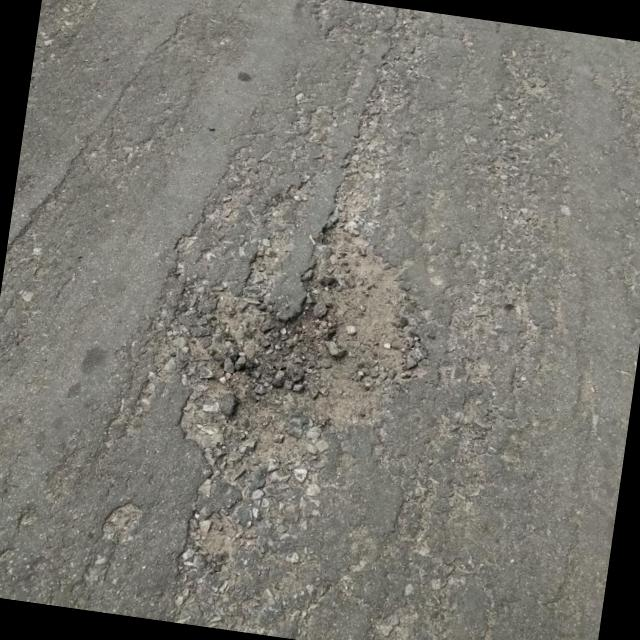Lubang: (185, 231, 419, 463)
